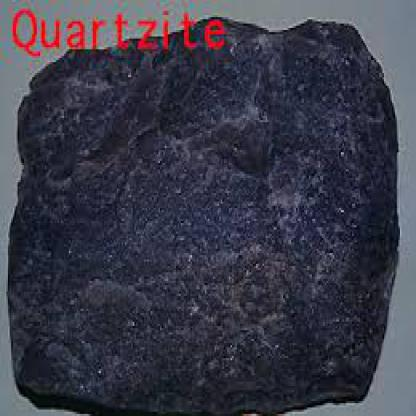Metamorphic_Quartize: (6, 15, 400, 414)
